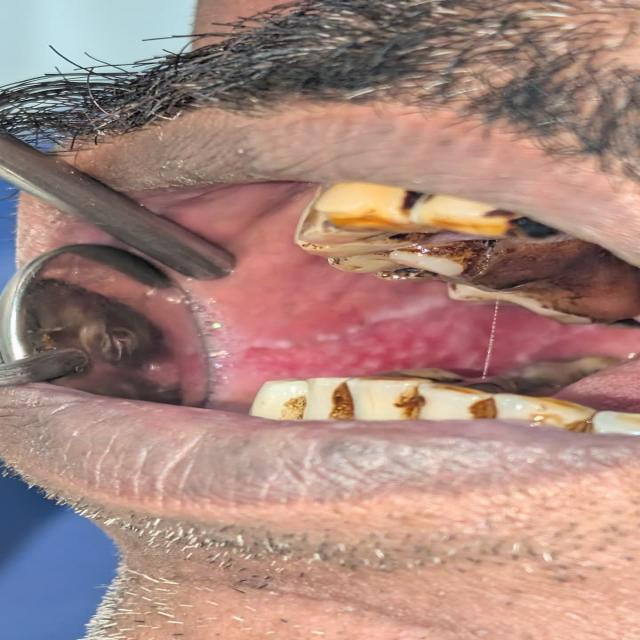leukoplakia-detection: (193, 271, 623, 392)
processing_area: (158, 193, 627, 412)
